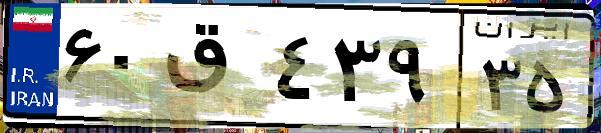0: (110, 28, 158, 98)
3: (330, 28, 385, 110), (475, 38, 525, 113)
4: (270, 28, 330, 110)
5: (525, 38, 570, 115)
6: (57, 26, 110, 100)
9: (385, 28, 445, 110)
ق: (158, 20, 270, 120)
